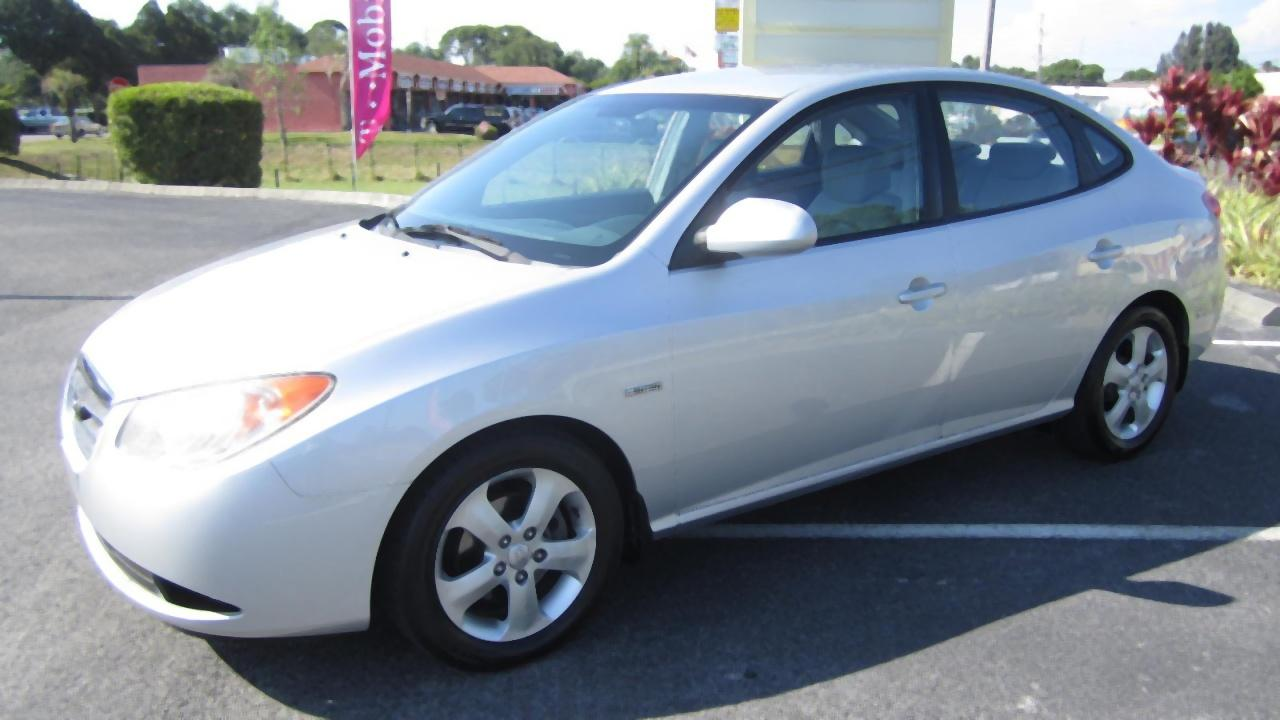Car hood: (77, 212, 610, 454)
Fender - -F-L-: (273, 208, 669, 515)
Fender - -R-L-: (1075, 135, 1228, 364)
Front bumper: (49, 383, 406, 641)
Headlight - -L-: (111, 370, 337, 468)
Passenger-s door - -F-L-: (644, 56, 969, 558)
Passenger-s door - -R-L-: (927, 51, 1149, 454)
Side bumper - -L-: (643, 348, 1077, 546)
Side mirror - -L-: (689, 194, 830, 262)
